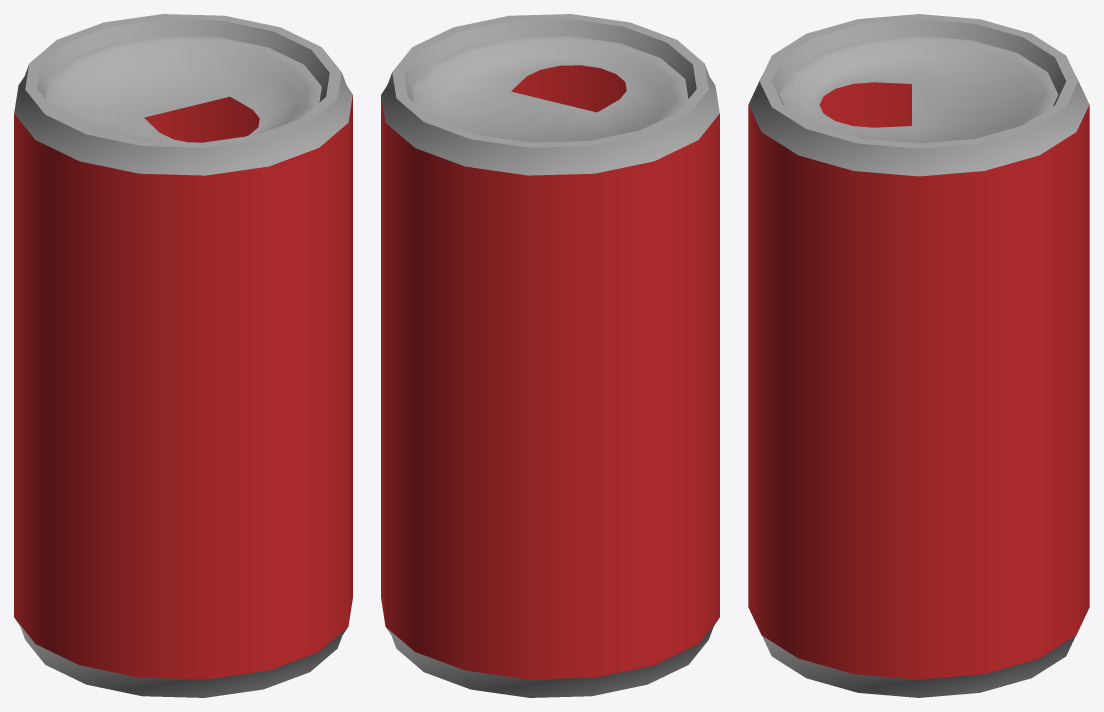
File: can_trash.fbx
3 views of the same model, side by side, from view 1: azimuth 30°, elevation 25°; view 2: azimuth 150°, elevation 25°; view 3: azimuth 270°, elevation 25° (orthographic).
Parts seen in each view (by area): view 1: Can; view 2: Can; view 3: Can.
Part boxes in pixels (x1,y1,x2,y2): Can: [14, 14, 352, 697]; Can: [381, 14, 719, 697]; Can: [748, 14, 1089, 697].
Bounding box in the file's own units: 23.19 × 41.21 × 23.19.
